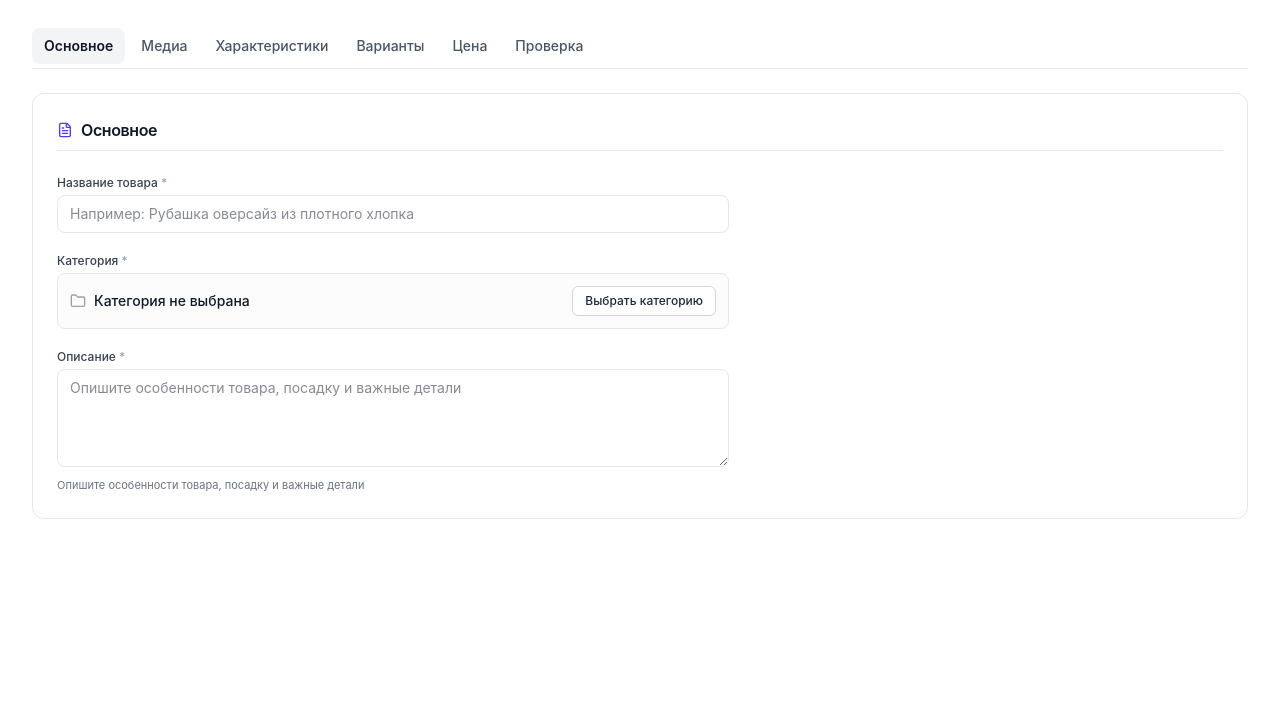
SELLER MEDIA.2C1 — Selection & Reorder Hardening › I & J. Delete Regression › J. deleting Black photo in Form workspace does not affect White photos
Click the tab with test id "studio-section-btn-media" at (164, 46), box [129, 28, 200, 64]
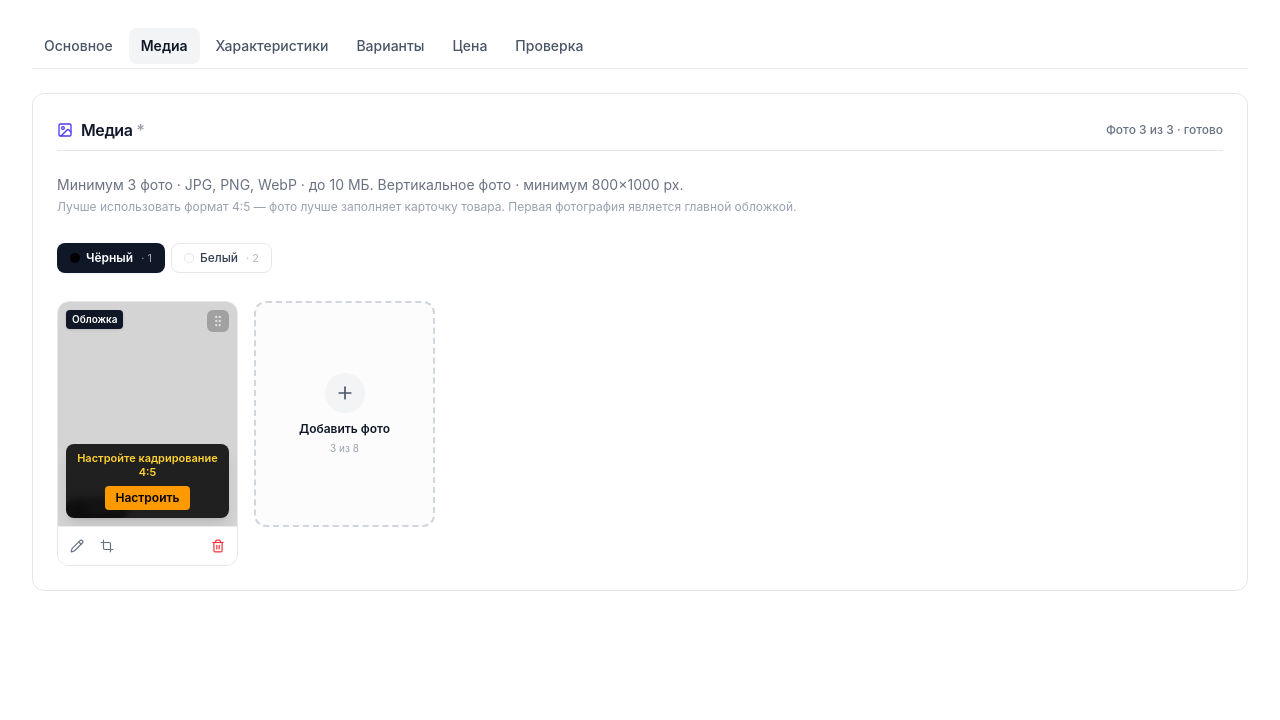
Now the button with test id "form-colorway-tab-col-black" shows "· 1", box [57, 243, 165, 273]
// Delete the only Black photo via Form delete button
Click the button with test id "form-media-delete-btn-0" at (218, 546), box [205, 533, 231, 559]
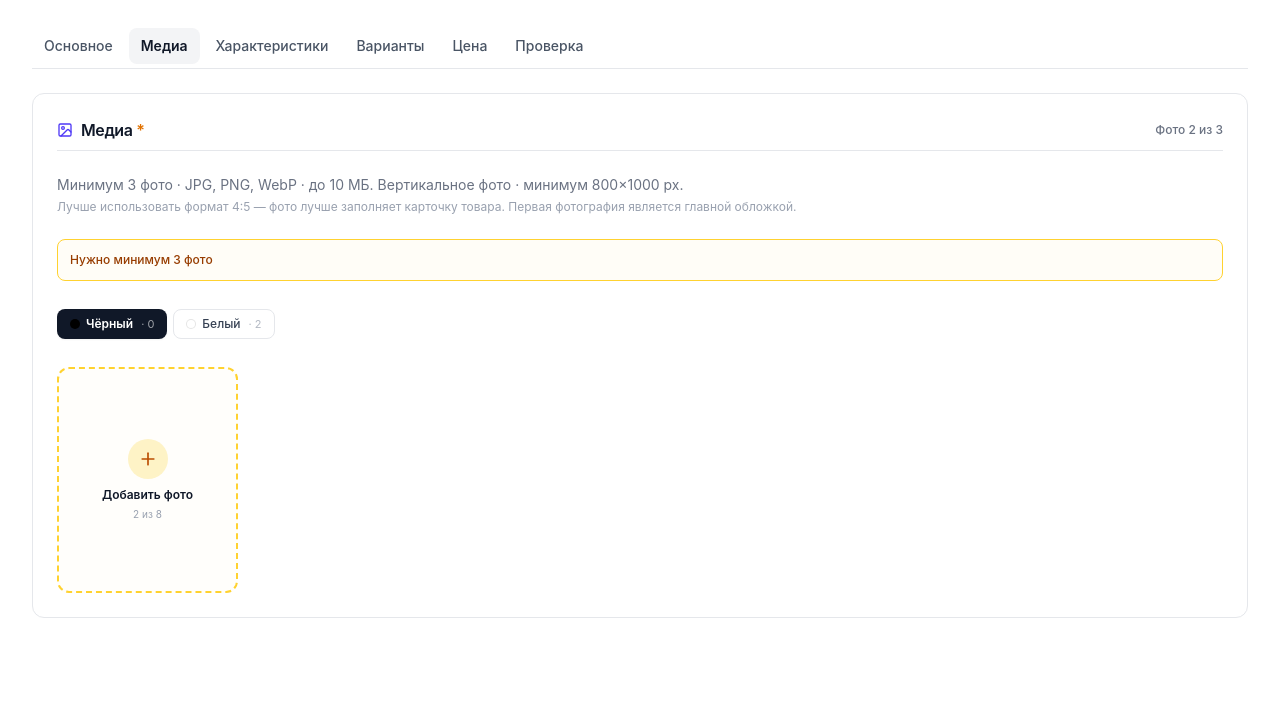
Now the button with test id "form-colorway-tab-col-white" shows "· 2", box [173, 309, 274, 339]
Now the button with test id "form-colorway-tab-col-black" shows "· 0", box [57, 309, 167, 339]
